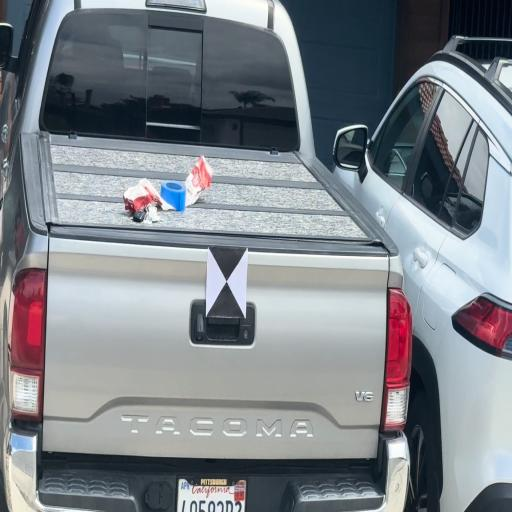target: (207, 247, 248, 318)
